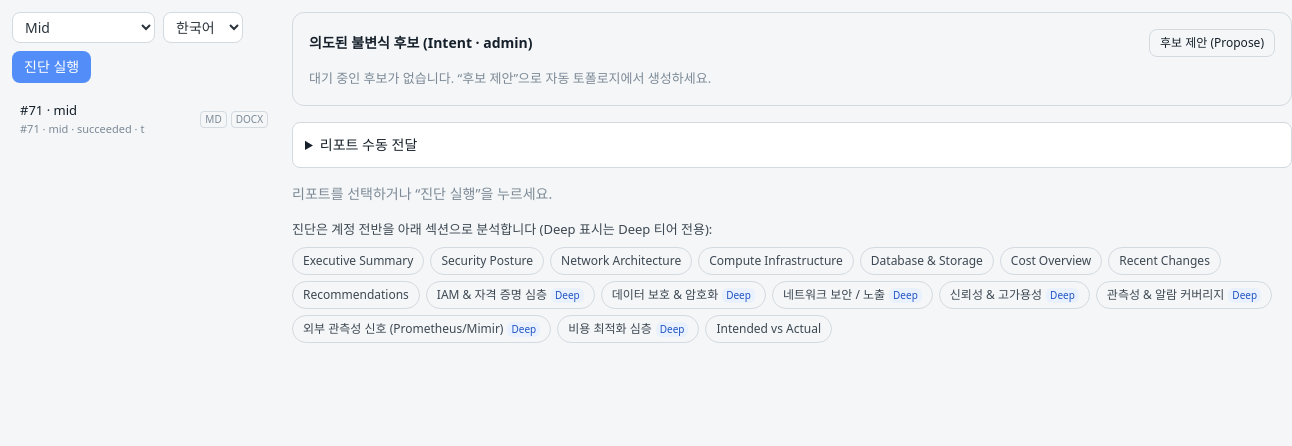
Test: DiagnosisView — invariant assessment coverage › discloses missing coverage for historical reports
Click the button "#71 · mid #71 · mid · succeeded · t" at x=104, y=119, box [12, 95, 196, 143]
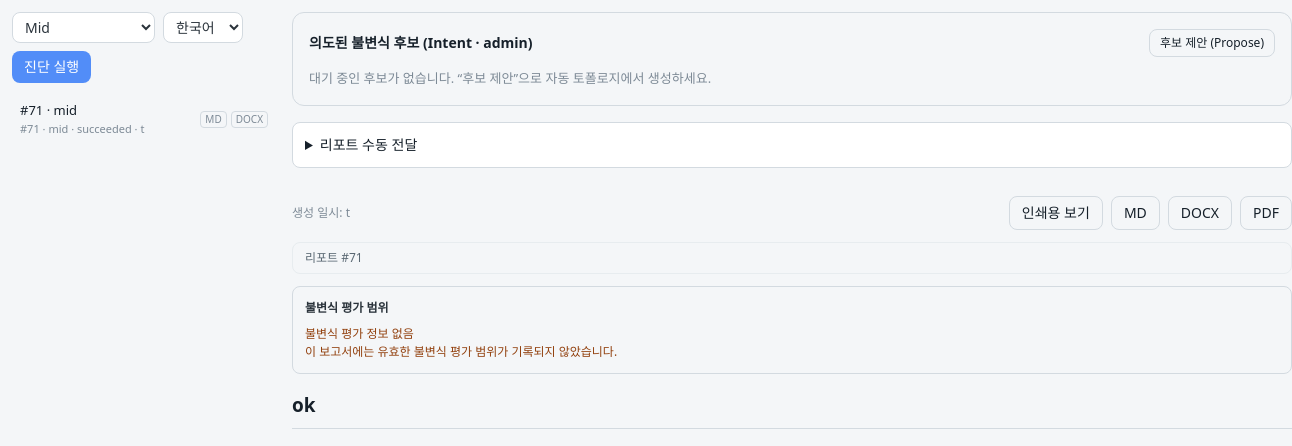
Expected: the text "불변식 평가 정보 없음" is shown, [305, 324, 414, 342]
Expected: the text "이 보고서에는 유효한 불변식 평가 범위가 기록되지 않았습니다." is shown, [305, 342, 617, 360]
